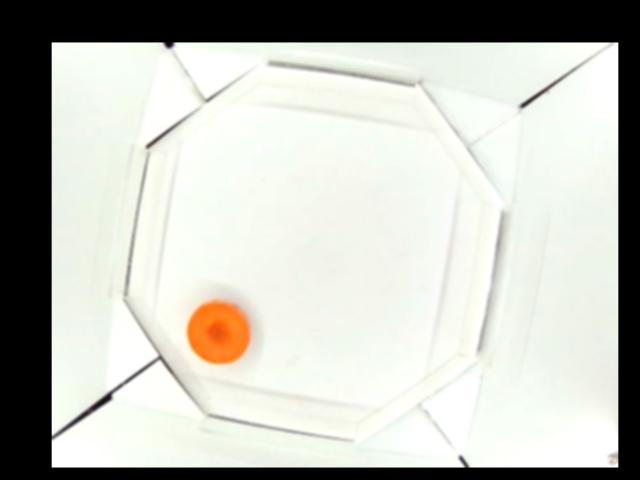Carrot: (186, 301, 248, 361)
